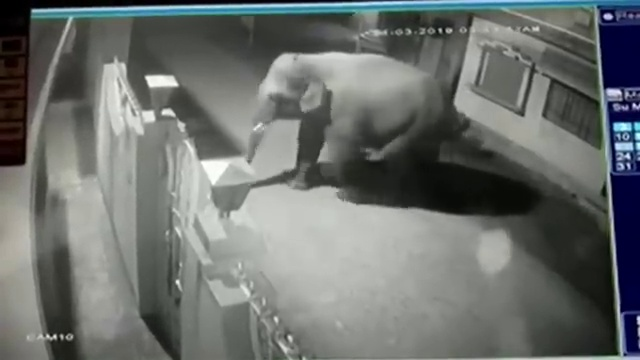Elephant: (244, 51, 446, 209)
